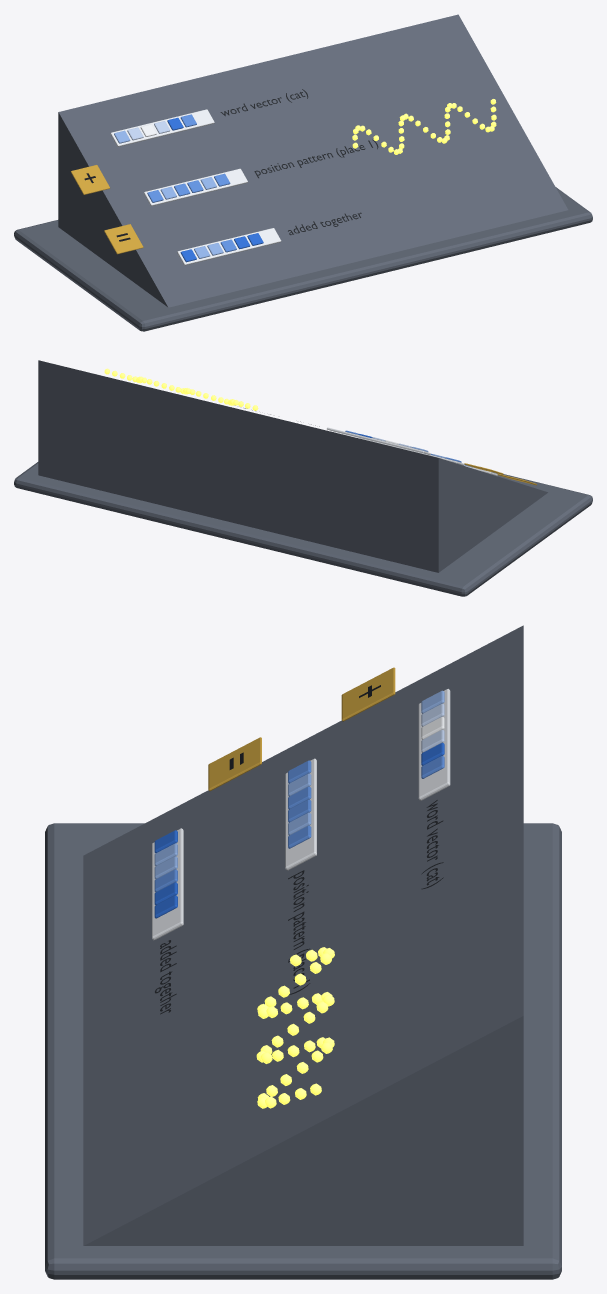
Rendered from embed_pos.glb.
The picture shows the model from 3 angles, top to bottom: view 1: azimuth 30°, elevation 25°; view 2: azimuth 150°, elevation 25°; view 3: azimuth 270°, elevation 25°; orthographic projection. The views are drawn at different scales.
Visible parts, largest first — view 1: slope, stand, b0, bar.001, bar, bar.002, eq_p, plus_p, t0.001, t0.002, lbl.001; view 2: slope, stand, b0, bar; view 3: slope, stand, b0, bar, plus_p, eq_p, bar.002, bar.001, t0.001, t0.002.
Part boxes in pixels (x1,y1,x2,y2): slope: (58,14,568,307); stand: (14,187,592,331); b0: (352,99,496,154); bar.001: (143,168,247,206); bar: (110,109,214,146); bar.002: (177,228,281,265); eq_p: (104,224,143,254); plus_p: (71,165,109,194); t0.001: (147,173,230,202); t0.002: (180,233,263,262); lbl.001: (254,139,378,178); slope: (38,360,547,572); stand: (14,462,592,596); b0: (104,368,258,410); bar: (327,427,430,455); slope: (83,625,523,1245); stand: (45,823,561,1279); b0: (256,947,334,1108); bar: (418,688,450,800); plus_p: (341,667,395,721); eq_p: (208,737,261,791); bar.002: (152,828,183,940); bar.001: (285,758,316,870); t0.001: (288,760,311,848); t0.002: (154,830,177,918).
Bounding box in the file's own units: 1.36 × 0.36 × 0.6716.
